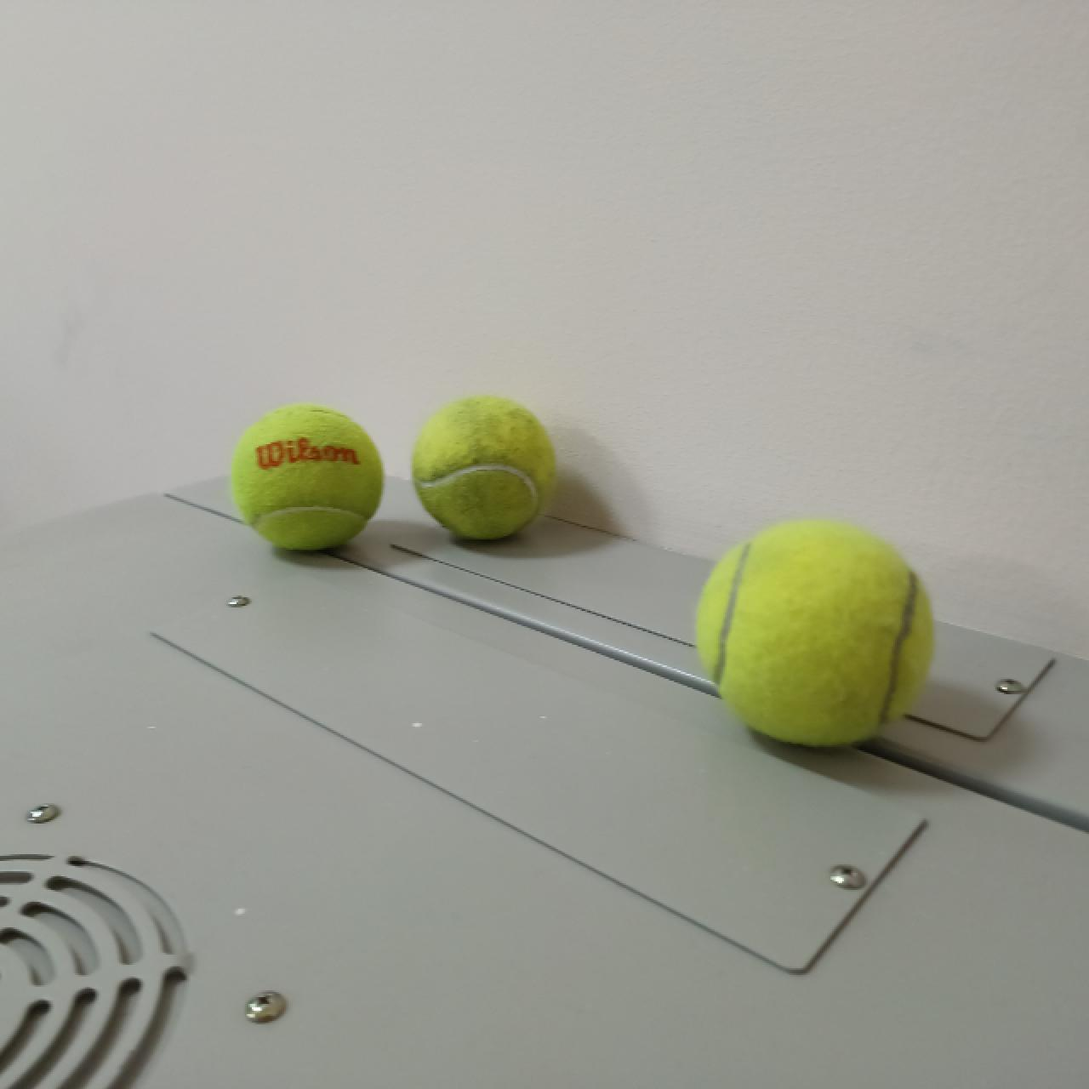tennis-ball: (693, 518, 936, 752), (232, 399, 384, 554), (413, 396, 552, 544)
